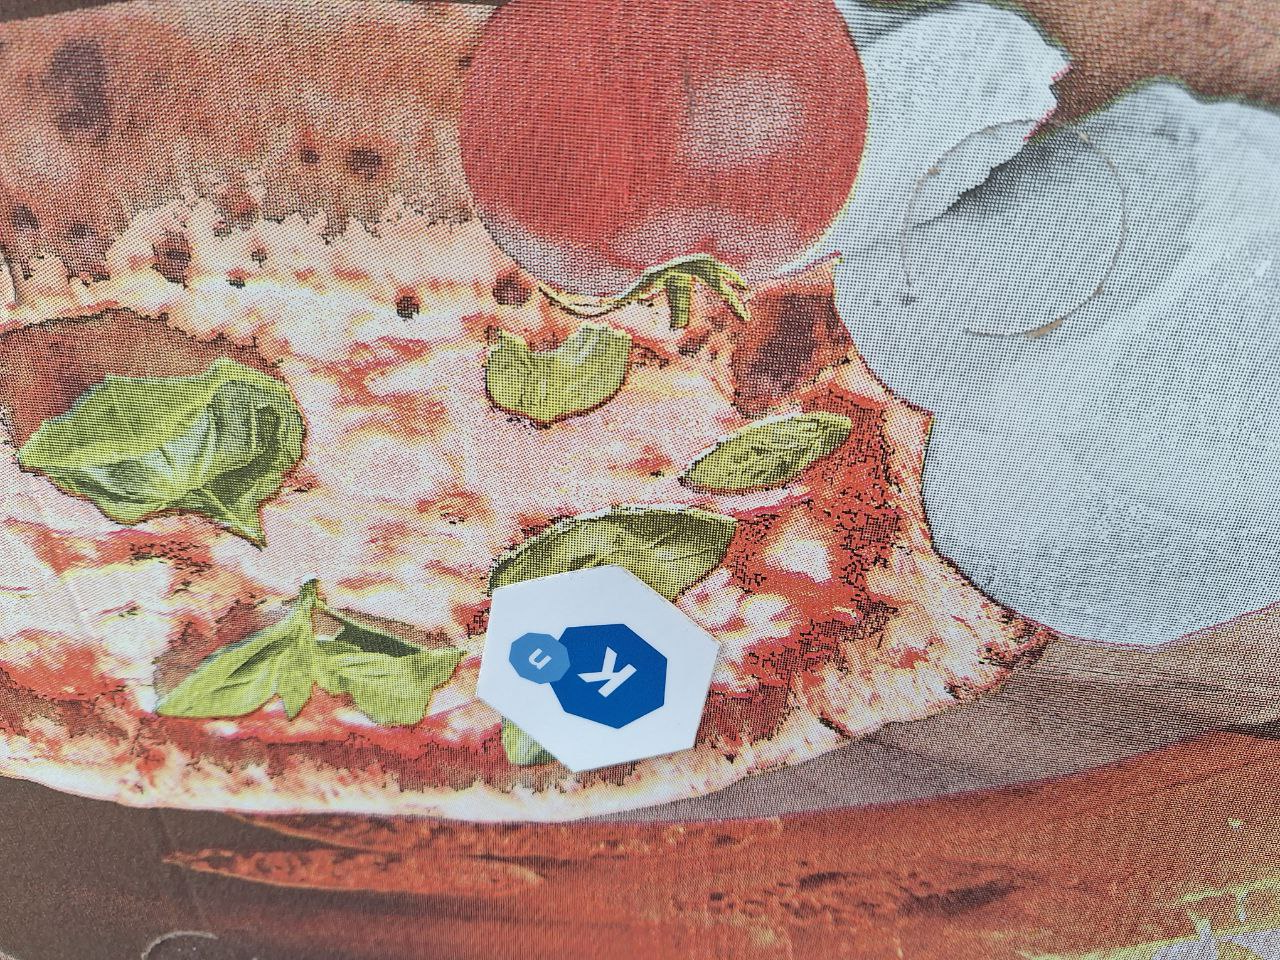knative: (508, 622, 667, 732)
